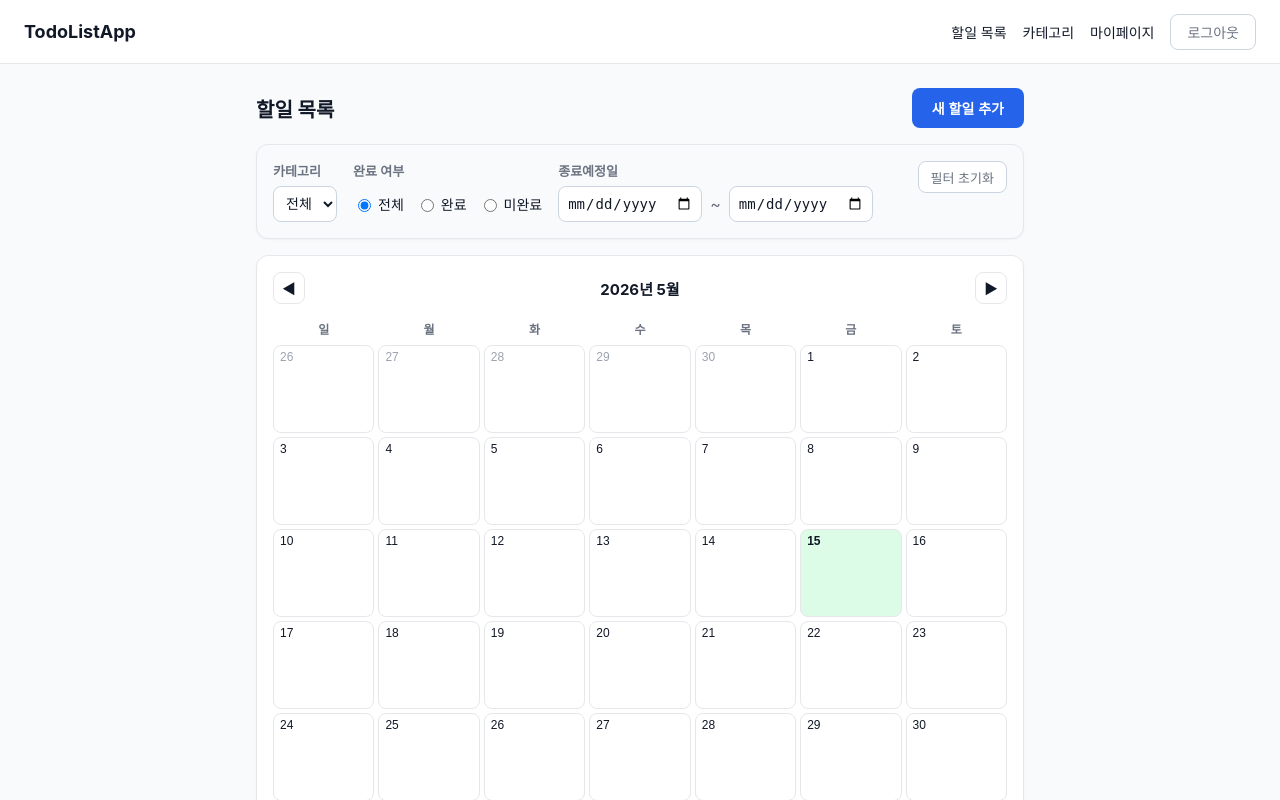
TodoListPage › 할일 없을 때(필터 있음) "해당 조건에 맞는 할일이 없습니다." 표시
Click the radio button labelled "완료".
click(427, 206)  # box [421, 199, 434, 212]
(page scrolled)
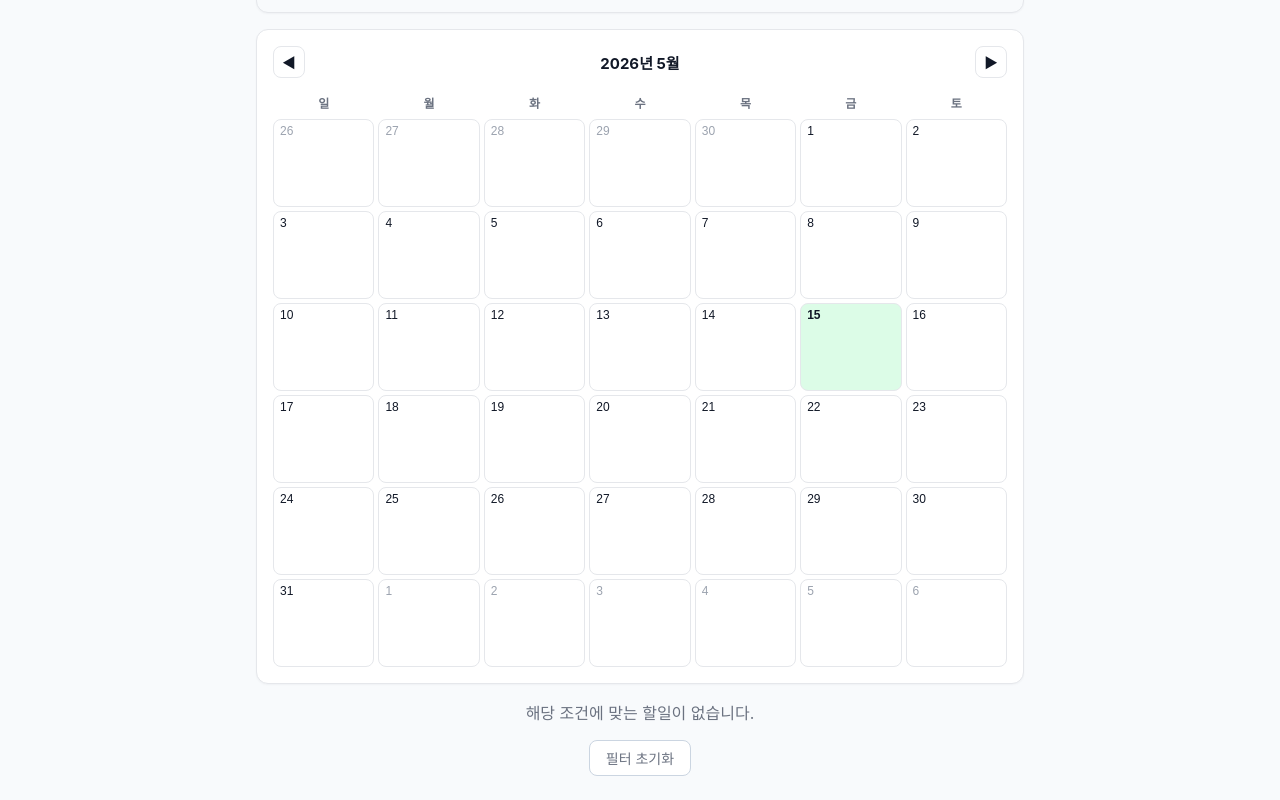
Check: the text "해당 조건에 맞는 할일이 없습니다." is shown, box [526, 703, 754, 723]
